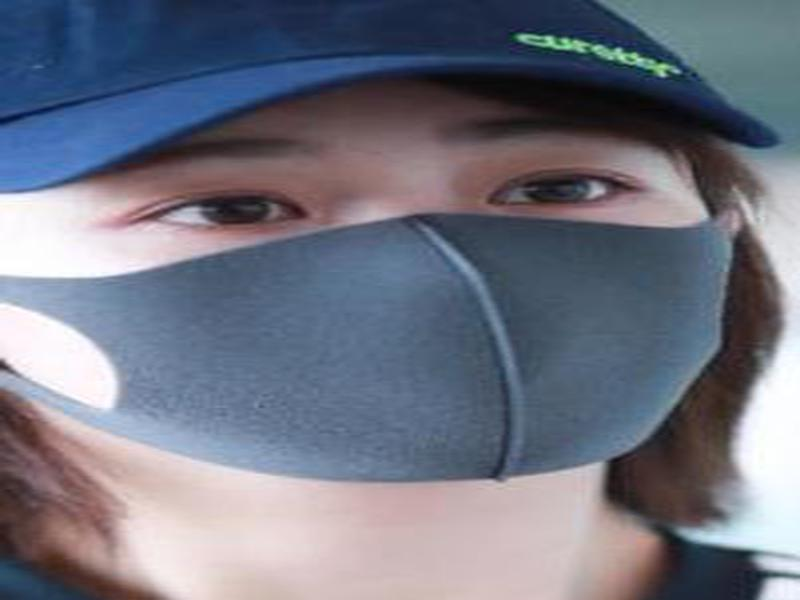with_mask: (1, 87, 733, 488)
